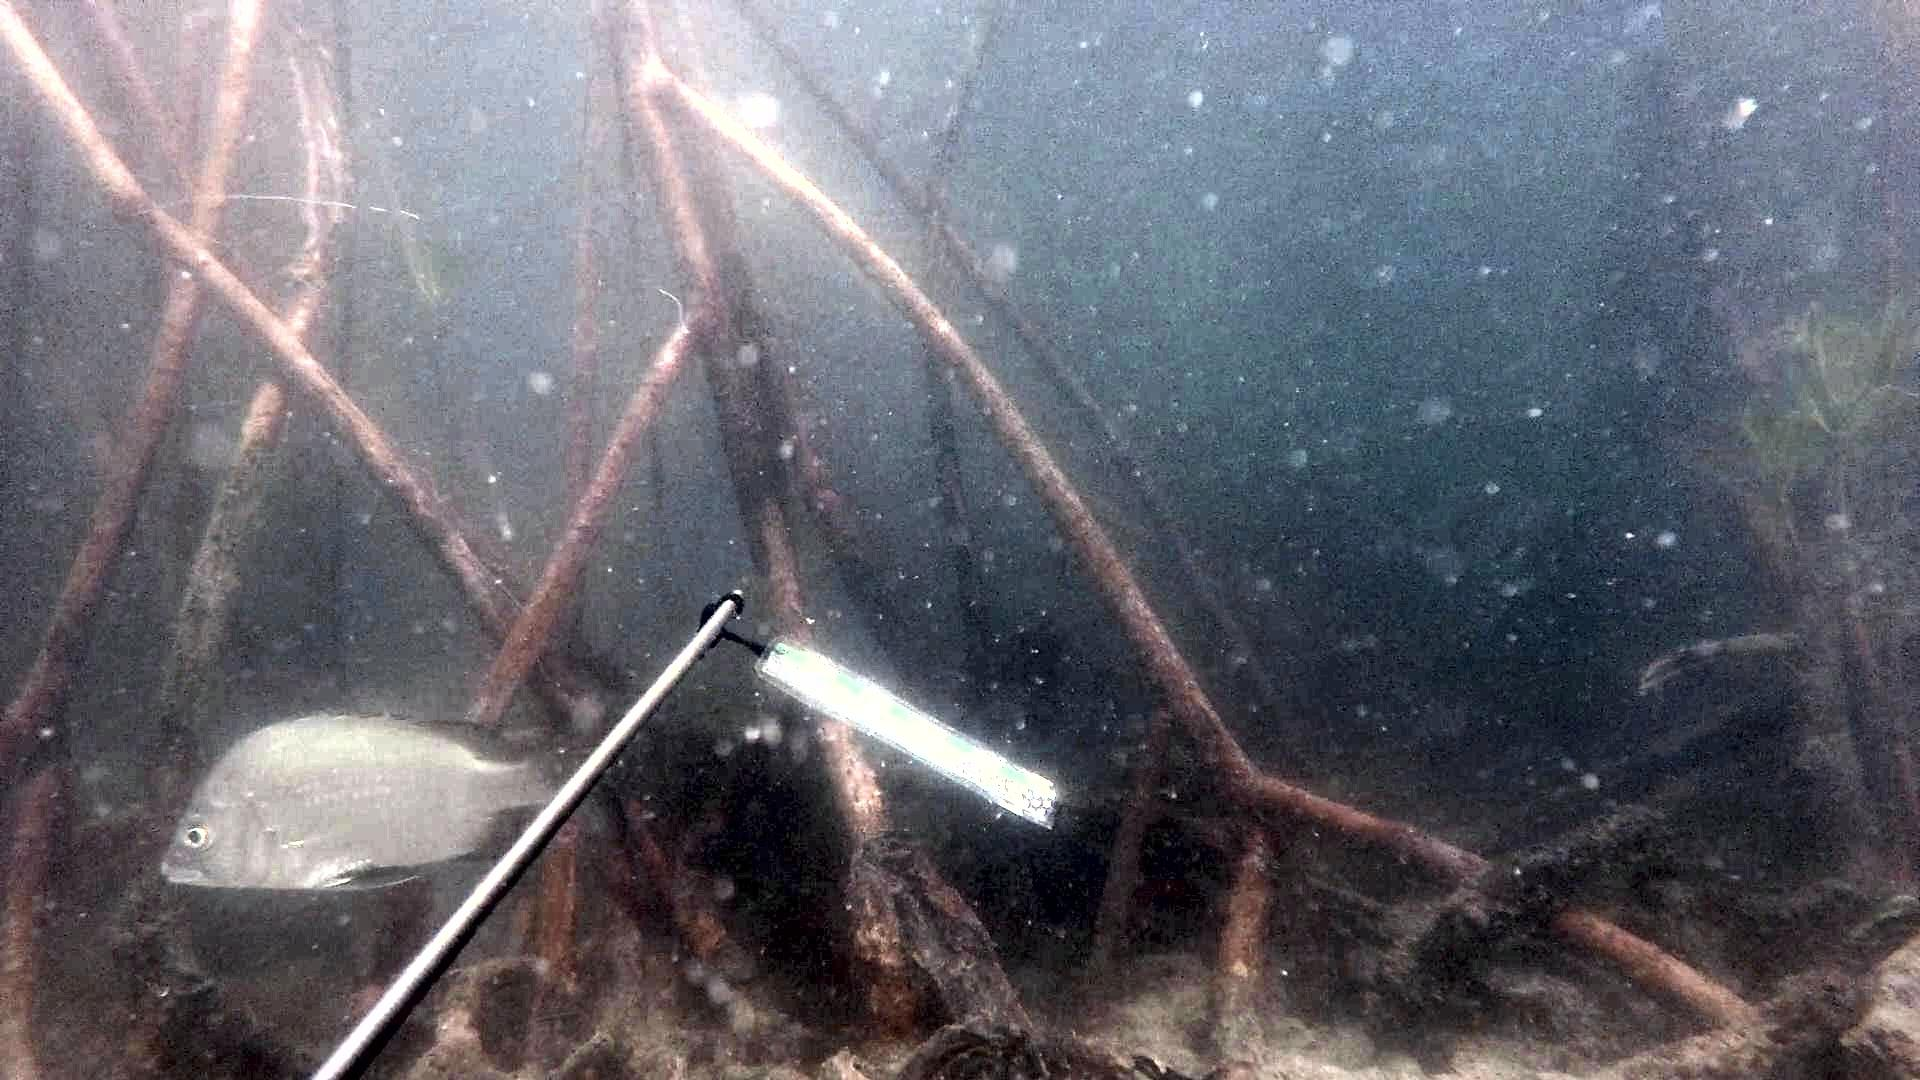acanthopagrus palmaris: (148, 676, 634, 905)
